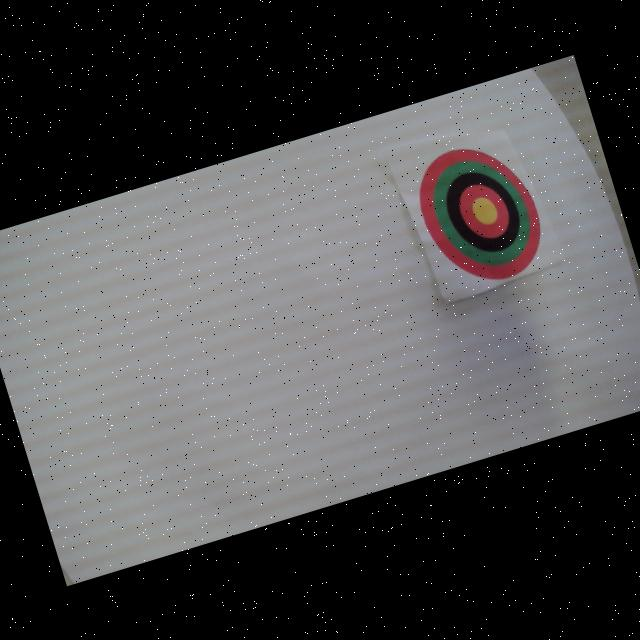COGNITIVE: (408, 130, 554, 296)
